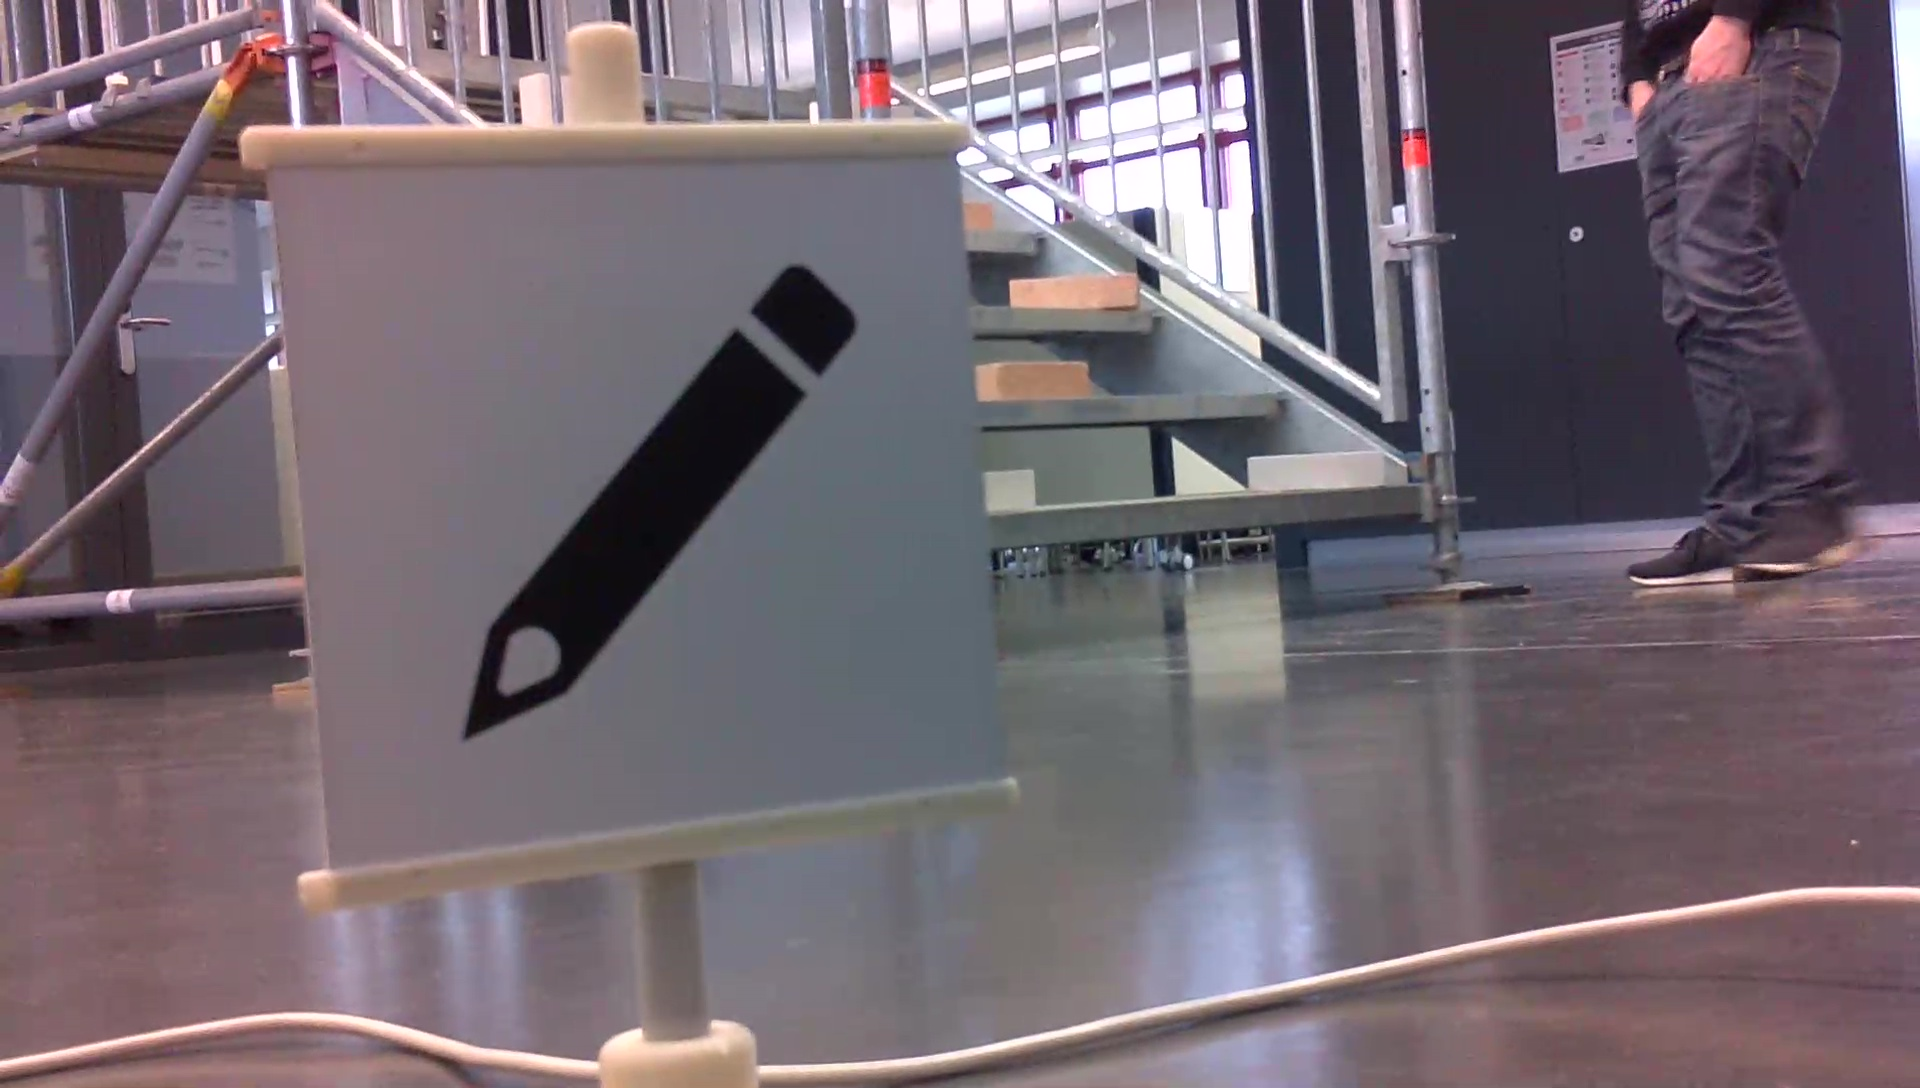brick: (1247, 452, 1385, 488), (1011, 274, 1138, 309), (975, 360, 1085, 398), (985, 469, 1030, 508), (960, 200, 993, 228)
edge: (990, 483, 1422, 550), (978, 393, 1287, 422), (969, 306, 1164, 338), (965, 228, 1048, 255)
pencil: (431, 247, 876, 761)
